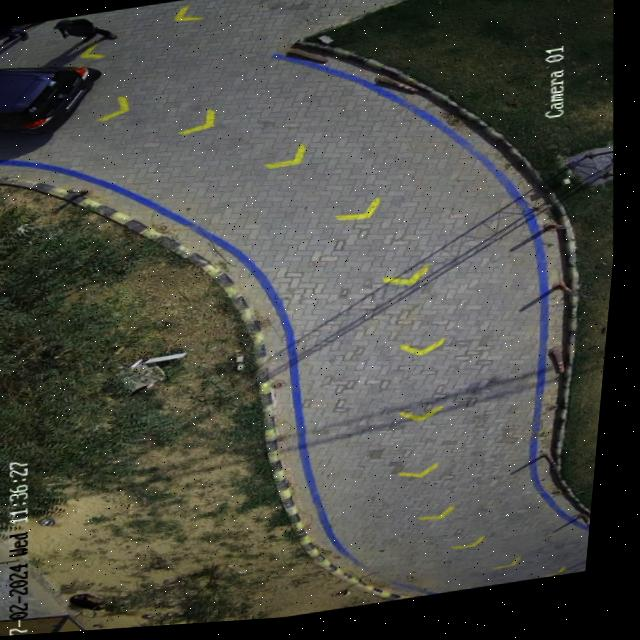car: (0, 66, 102, 133)
